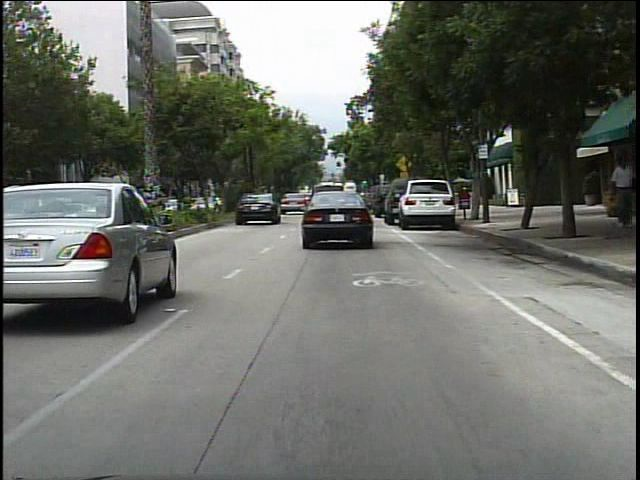person: (602, 158, 630, 230)
